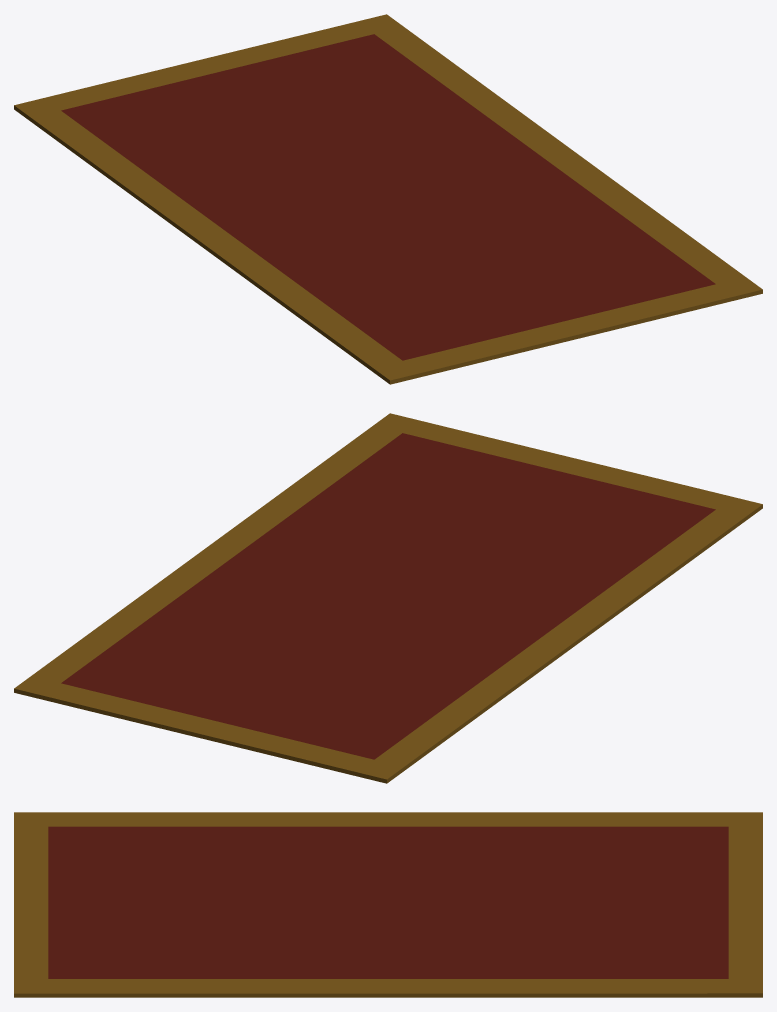
Rendered from Carpet.fbx.
The picture shows the model from 3 angles, top to bottom: view 1: azimuth 30°, elevation 25°; view 2: azimuth 150°, elevation 25°; view 3: azimuth 270°, elevation 25°; orthographic projection.
Visible parts, largest first — view 1: Carpet; view 2: Carpet; view 3: Carpet.
Boxes of the visible parts, <box> form: Carpet: <box>14,14,762,384</box>; Carpet: <box>14,413,762,783</box>; Carpet: <box>14,812,762,997</box>.
Bounding box in the file's own units: 10.15 × 0.1084 × 17.73.
